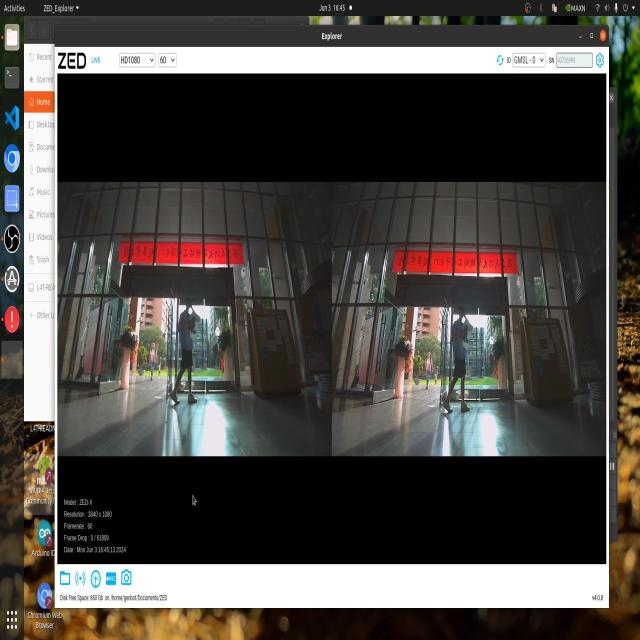blue: (459, 318, 474, 357), (188, 310, 199, 332)
